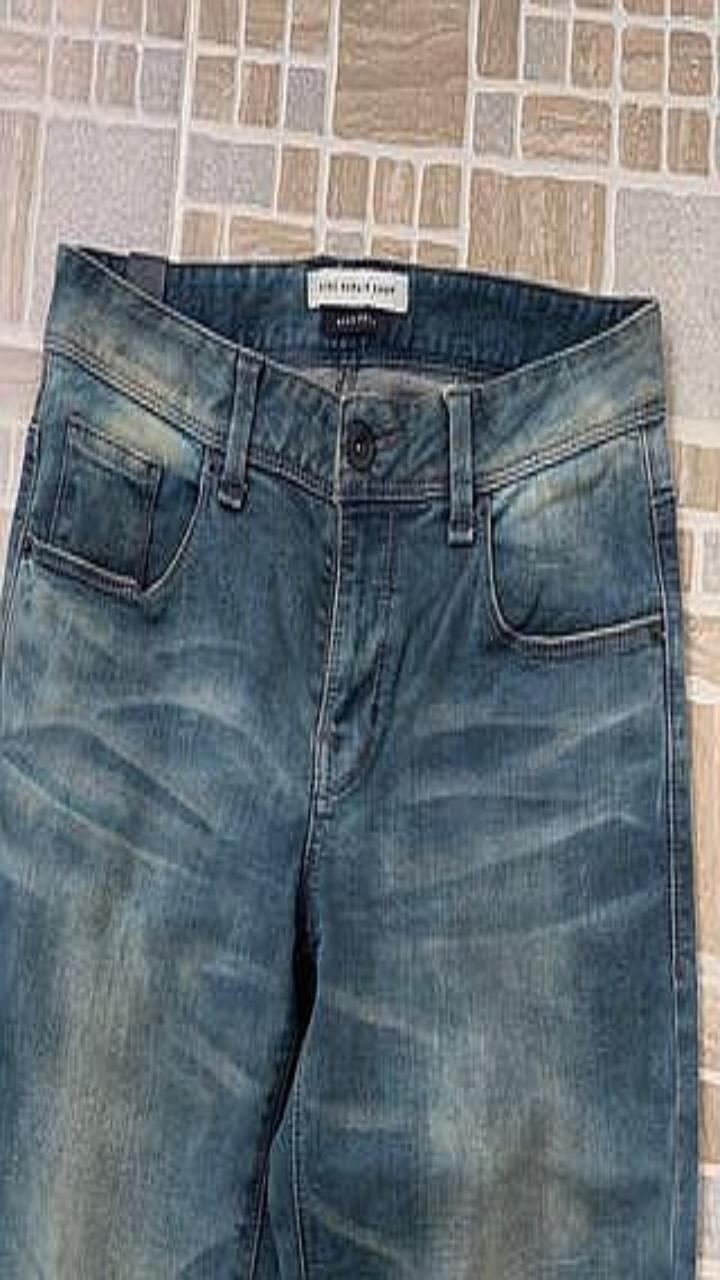Shorts: (0, 244, 696, 1279)
